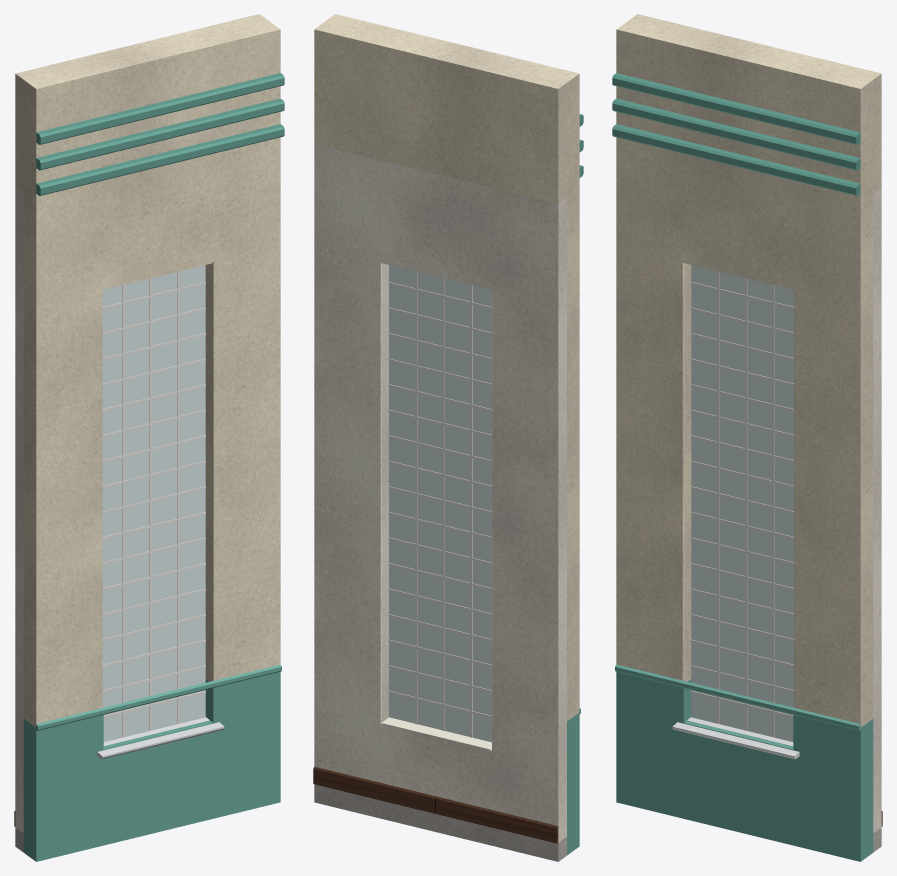
3 views of the same model, side by side, from view 1: azimuth 30°, elevation 25°; view 2: azimuth 150°, elevation 25°; view 3: azimuth 330°, elevation 25° (orthographic).
Visible parts, largest first — view 1: w_gb_render, w_gb_gblock, w_gb_tile_g, w_gb_trim_g, w_gb_mortar, w_gb_plaster, w_gb_coping; view 2: w_gb_plaster, w_gb_render, w_gb_gblock, w_gb_mortar, w_gb_concrete, w_gb_dkwood, w_gb_tile_g; view 3: w_gb_render, w_gb_gblock, w_gb_tile_g, w_gb_trim_g, w_gb_mortar, w_gb_plaster, w_gb_coping.
Part boxes in pixels (box(x1,y1,x2,y2)): w_gb_render: box(15, 14, 280, 727); w_gb_gblock: box(102, 265, 205, 741); w_gb_tile_g: box(23, 664, 281, 861); w_gb_trim_g: box(36, 73, 284, 195); w_gb_mortar: box(102, 271, 205, 737); w_gb_plaster: box(15, 189, 23, 832); w_gb_coping: box(97, 717, 224, 759); w_gb_plaster: box(314, 144, 566, 842); w_gb_render: box(314, 14, 579, 721); w_gb_gblock: box(389, 265, 491, 742); w_gb_mortar: box(388, 271, 491, 737); w_gb_concrete: box(314, 784, 566, 861); w_gb_dkwood: box(313, 766, 558, 843); w_gb_tile_g: box(567, 708, 580, 855); w_gb_render: box(616, 14, 881, 727); w_gb_gblock: box(691, 265, 794, 741); w_gb_tile_g: box(615, 664, 873, 861); w_gb_trim_g: box(612, 73, 860, 195); w_gb_mortar: box(691, 271, 794, 737); w_gb_plaster: box(873, 189, 881, 832); w_gb_coping: box(672, 717, 799, 759).
Size of the model in its own units: 2 by 6.05 by 0.386.
9 materials, 4 textured.
